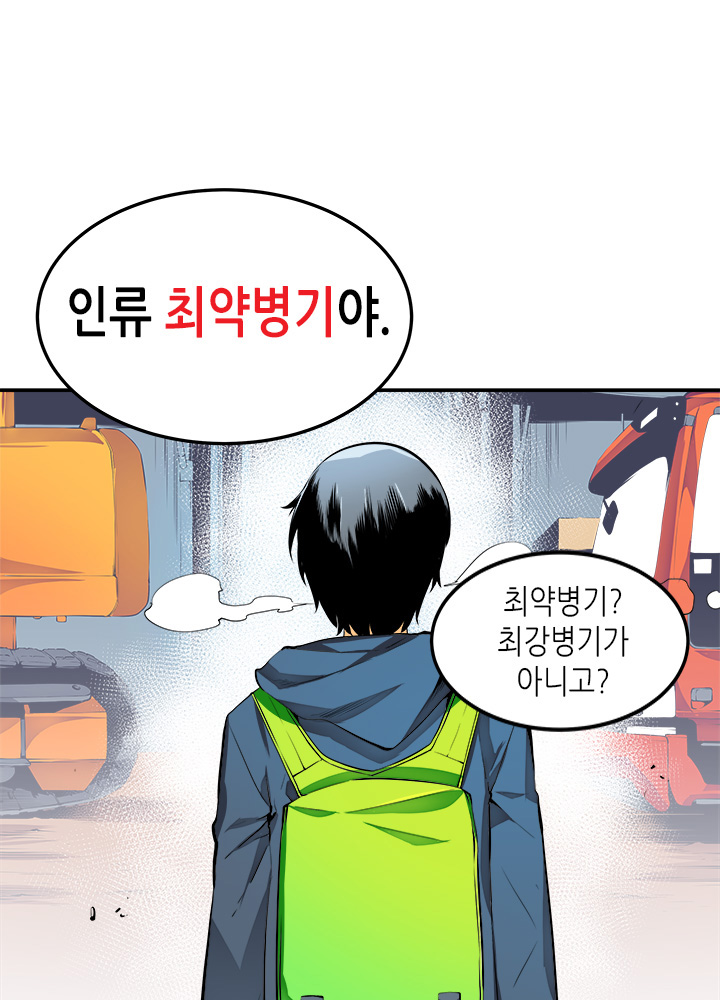dialog box: (3, 149, 444, 476), (401, 520, 720, 756)
text: (46, 254, 406, 384), (481, 564, 646, 719)
